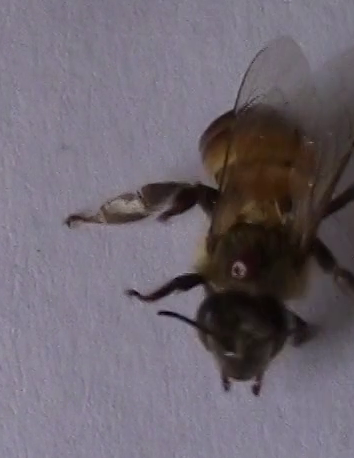Varroa destructor: (225, 247, 268, 282)
